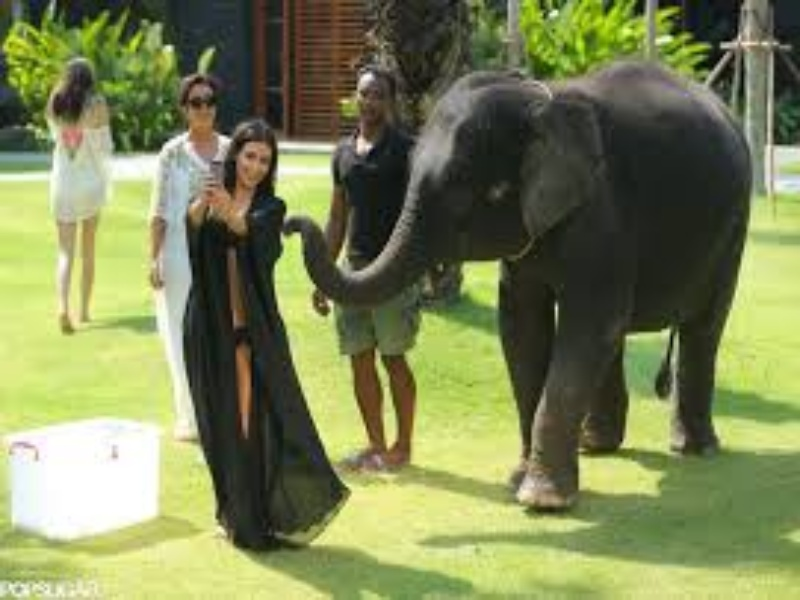elephant: (314, 46, 760, 522)
